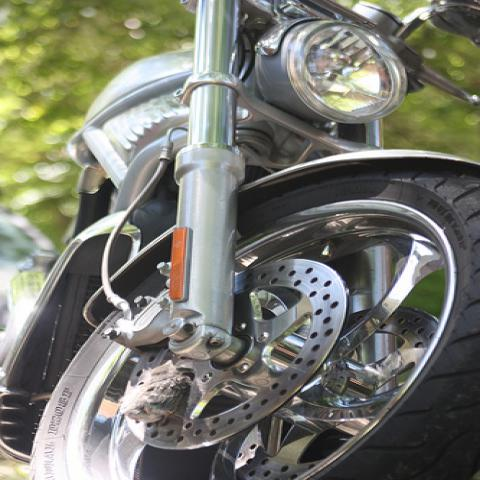motorcycle: (0, 2, 479, 475)
